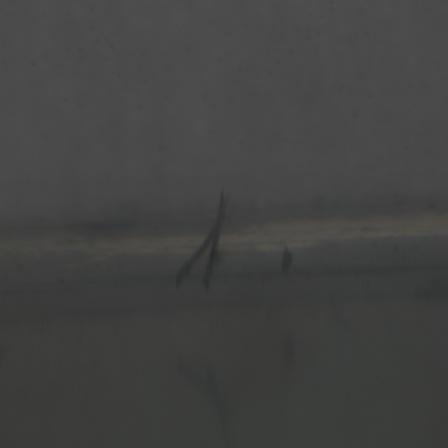Jentik-Nyamuk: (167, 187, 230, 294)
